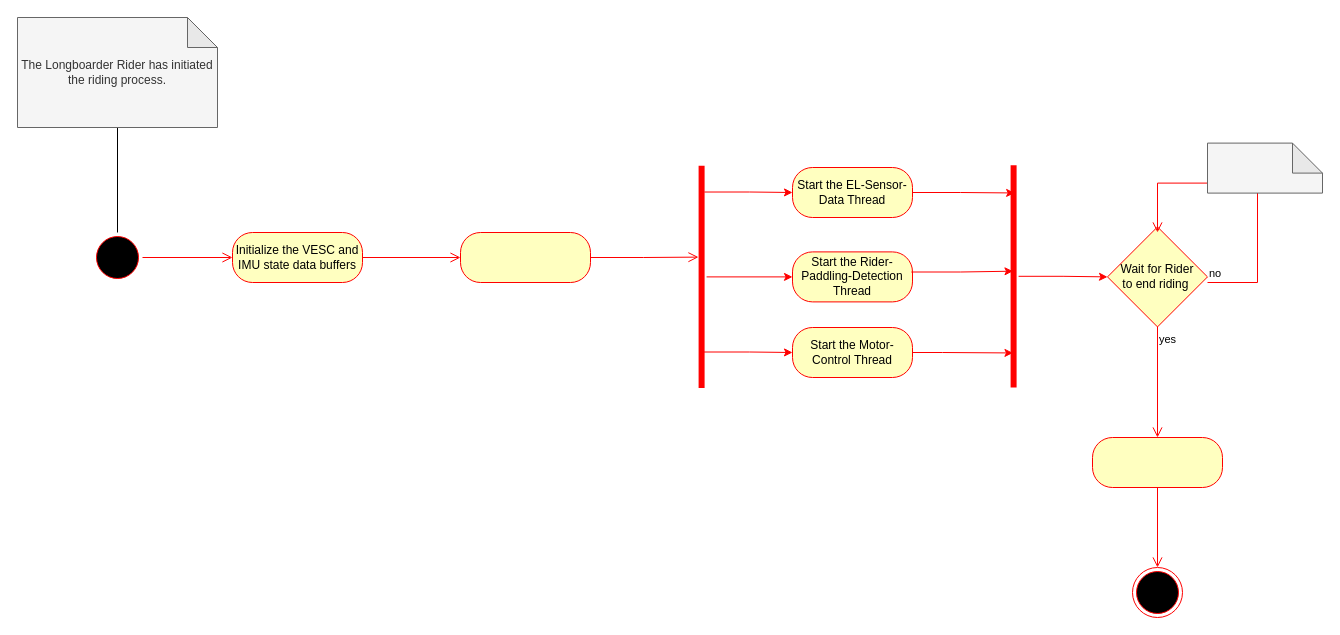
Some shapes in this 1340 by 635 pixel diagram are drawn without their labels. Here are the shapes that lost their labels. From the top down, the centre of each, then its label:
(1264,167): Listening for riding finished event
(525,257): Initialize the Motor-Control Semaphore
(1157,462): Terminate all CSF threads
